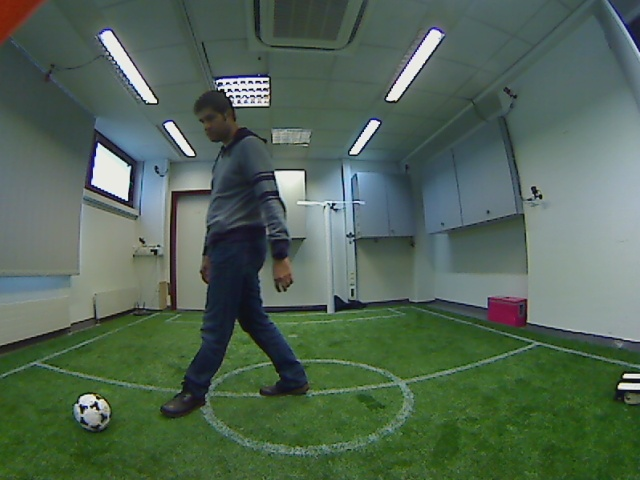ball: (67, 390, 118, 437)
